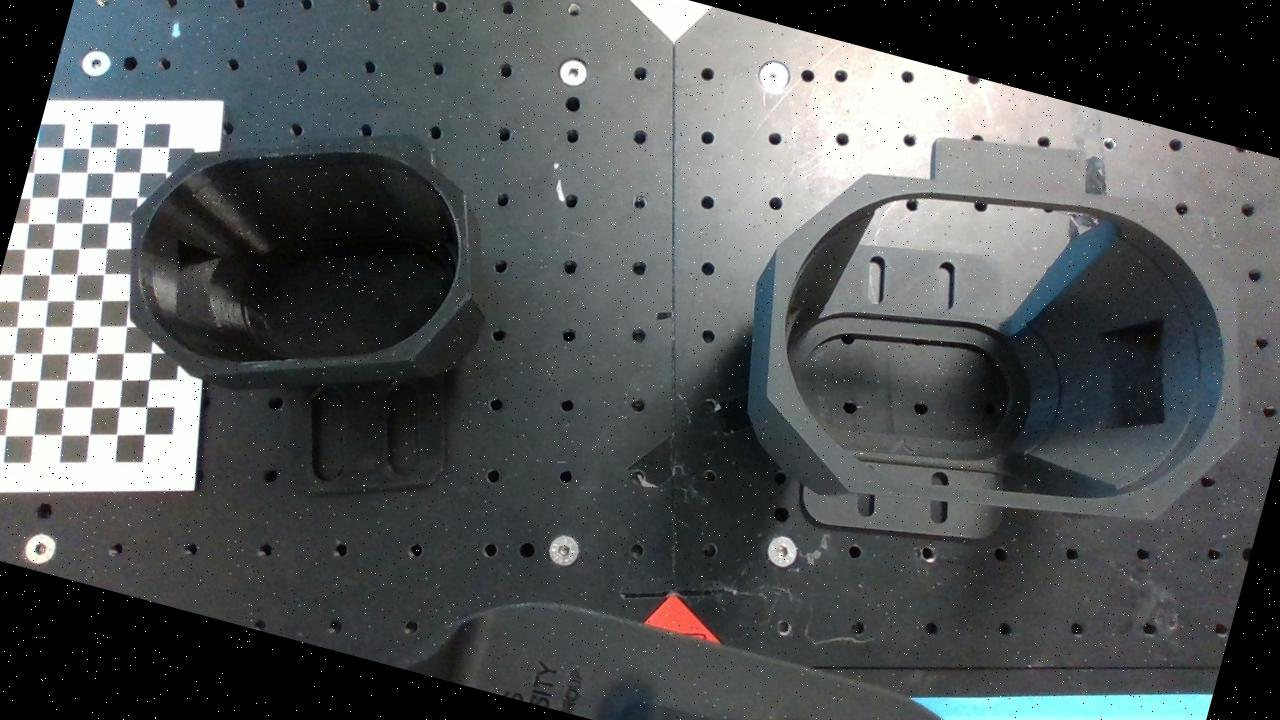big_interface: (719, 107, 1280, 585)
small_interface: (94, 81, 507, 441)
